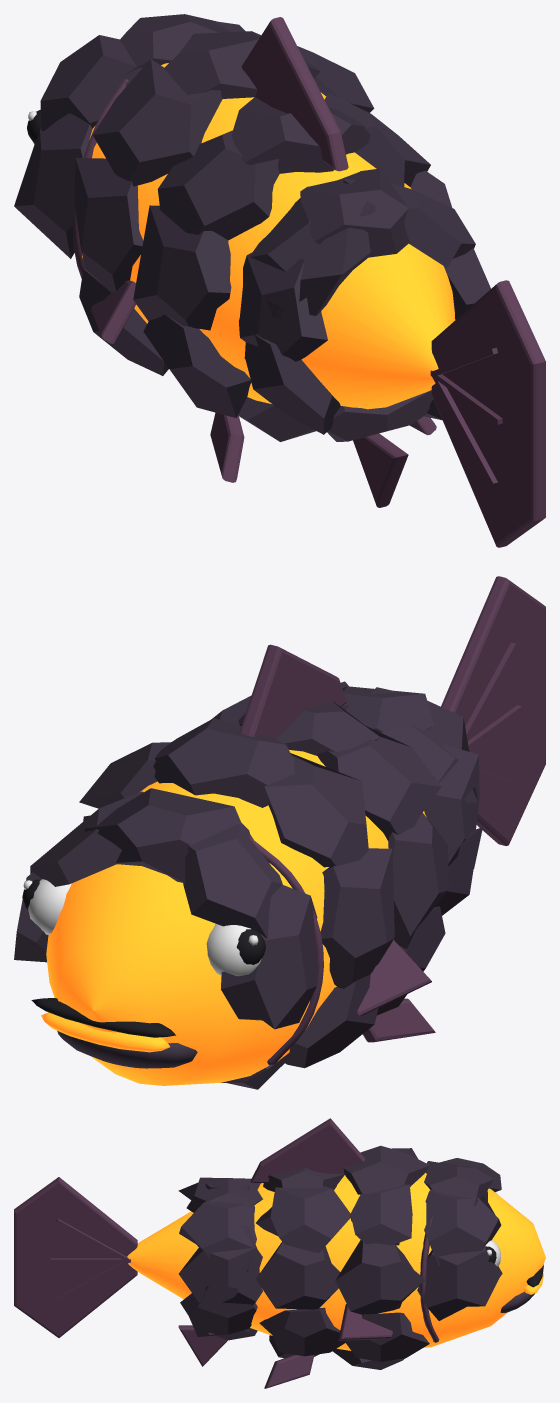
Rendered from FISH_MAGMAGROUPER.glb.
The picture shows the model from 3 angles, top to bottom: view 1: azimuth 30°, elevation 25°; view 2: azimuth 150°, elevation 25°; view 3: azimuth 270°, elevation 25°; orthographic projection. The views are drawn at different scales.
Visible parts, largest first — view 1: Crust, BasaltFin, Glow; view 2: Crust, Glow, BasaltFin, EyeWhite, Eye; view 3: Crust, BasaltFin, Glow.
Part boxes in pixels (x1=…): Crust: x1=14, y1=14, x2=490, y2=441; BasaltFin: x1=73, y1=17, x2=545, y2=547; Glow: x1=82, y1=63, x2=455, y2=409; Crust: x1=14, y1=681, x2=482, y2=1089; Glow: x1=41, y1=750, x2=426, y2=1085; BasaltFin: x1=239, y1=576, x2=545, y2=1065; EyeWhite: x1=23, y1=879, x2=261, y2=976; Eye: x1=22, y1=879, x2=265, y2=1037; Crust: x1=178, y1=1145, x2=534, y2=1369; BasaltFin: x1=14, y1=1118, x2=439, y2=1388; Glow: x1=127, y1=1173, x2=545, y2=1350.
Bounding box in the file's own units: 1.69 × 2 × 3.91.
